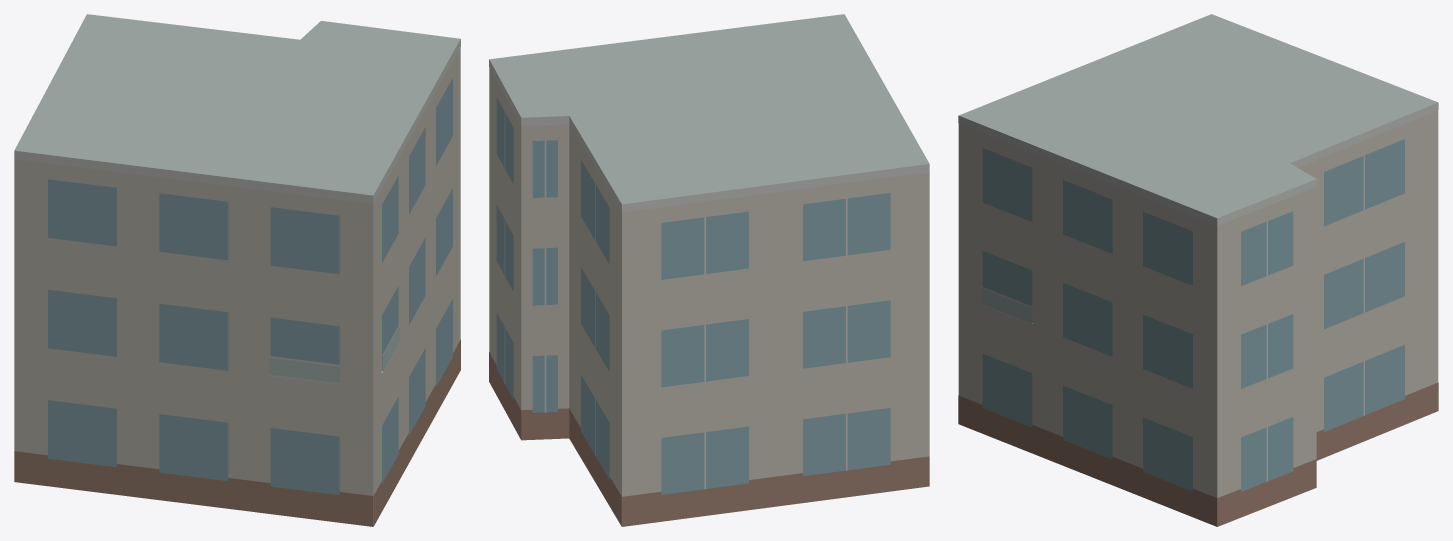
The model's file is survey-upis-32668169.glb.
The picture shows the model from 3 angles, left to right: view 1: azimuth 30°, elevation 25°; view 2: azimuth 150°, elevation 25°; view 3: azimuth 270°, elevation 25°; orthographic projection. The views are drawn at different scales.
Parts seen in each view (by area): view 1: survey-upis-32668169.tmp; view 2: survey-upis-32668169.tmp; view 3: survey-upis-32668169.tmp.
Part boxes in pixels (<box>): survey-upis-32668169.tmp: <box>14,14,460,526</box>; survey-upis-32668169.tmp: <box>489,14,929,526</box>; survey-upis-32668169.tmp: <box>958,14,1438,526</box>.
Size of the model in its own units: 13.85 by 9.75 by 13.75.
